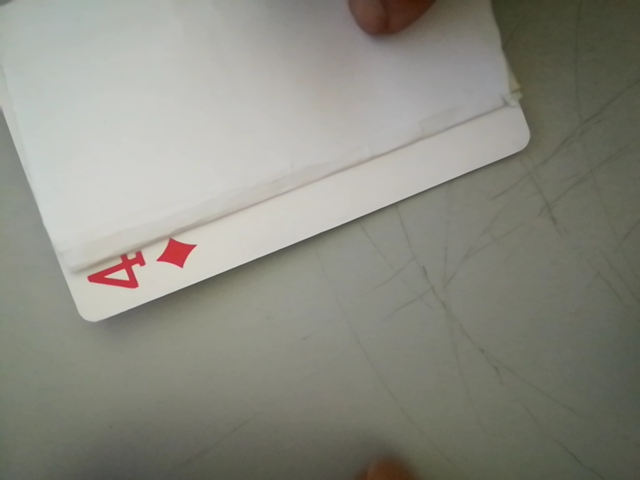fk 4: (75, 232, 204, 303)
